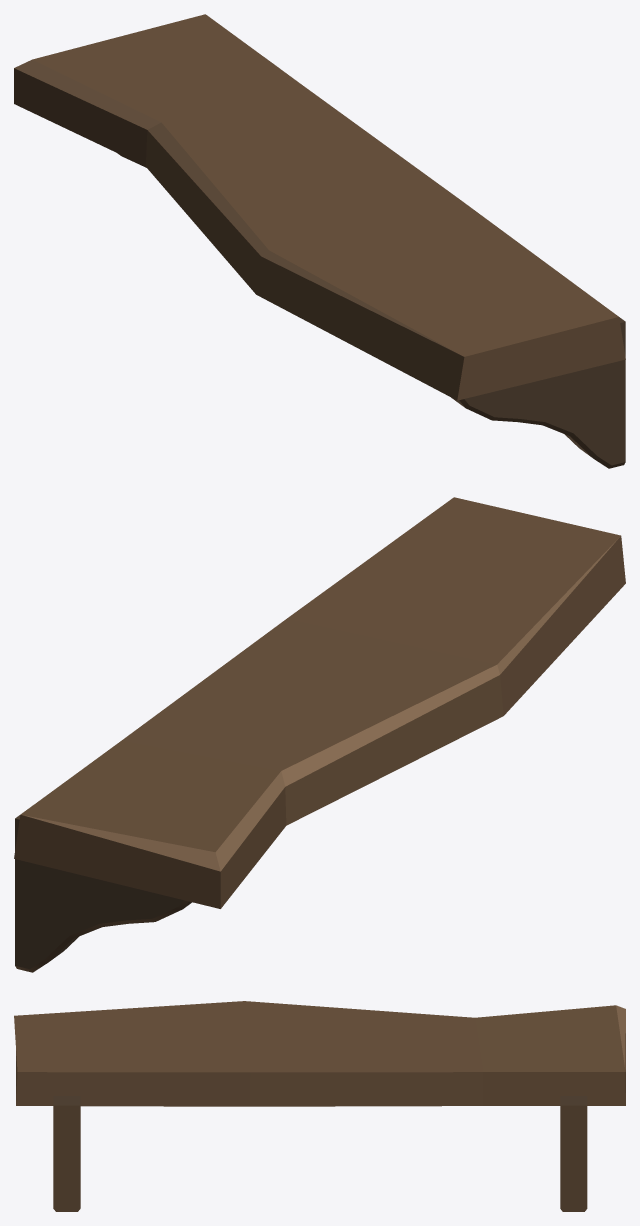
File: shelf.fbx
3 renders of one model, top to bottom at view 1: azimuth 30°, elevation 25°; view 2: azimuth 150°, elevation 25°; view 3: azimuth 270°, elevation 25°, orthographic. The views are drawn at different scales.
Parts seen in each view (by area): view 1: pCube356; view 2: pCube356; view 3: pCube356.
Boxes of the visible parts, x1,y1,x2,y2 form: pCube356: [14, 14, 625, 468]; pCube356: [14, 497, 625, 972]; pCube356: [14, 1001, 625, 1211].
Bounding box in the file's own units: 8.5 × 6.13 × 25.93.
1 material, 1 textured.
